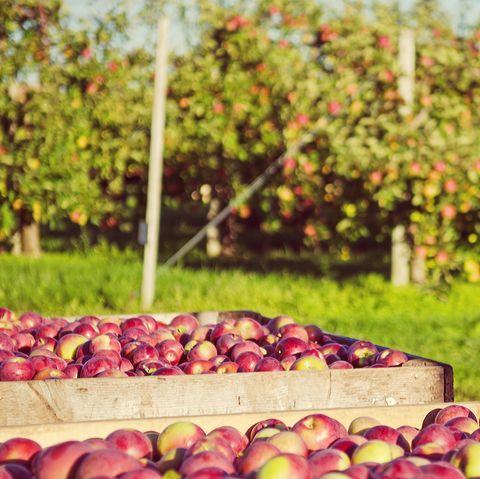apple: (291, 413, 349, 450), (105, 428, 156, 459), (1, 436, 42, 473)
